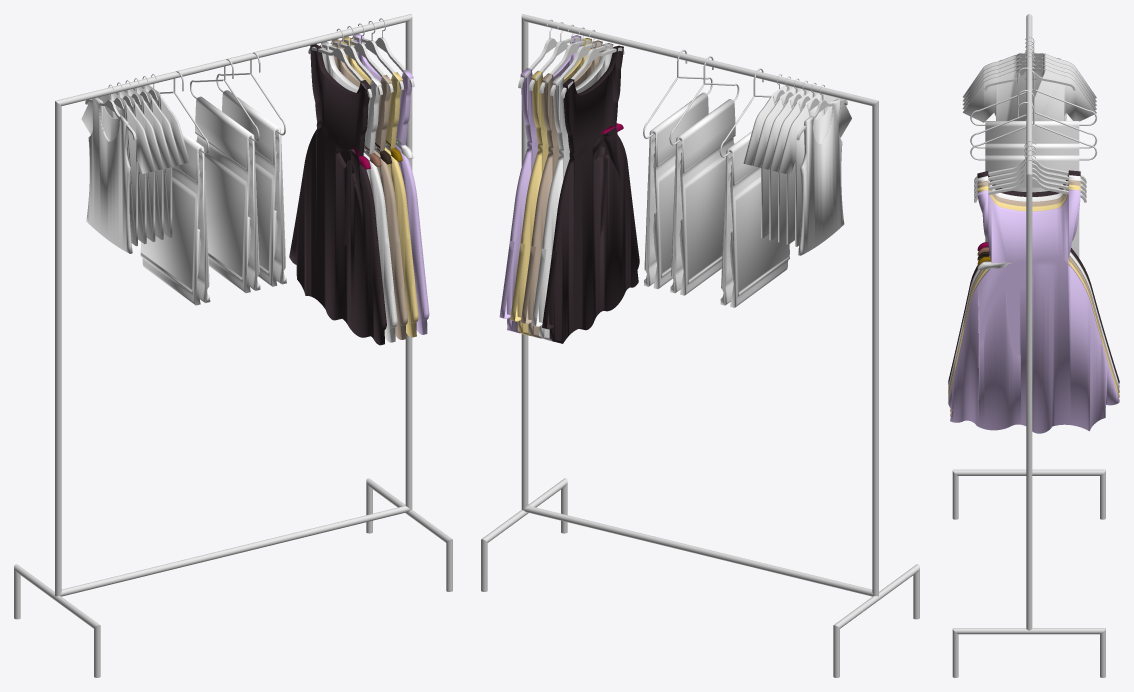
File: clothersrack1.fbx
3 renders of one model, left to right at view 1: azimuth 30°, elevation 25°; view 2: azimuth 150°, elevation 25°; view 3: azimuth 270°, elevation 25°, orthographic. The views are drawn at different scales.
Visible parts, largest first — view 1: Group_002, Component#4_001, Group_027, Group_031, Group_058, Group_029, Group_004, Group_006, Group_010, Group_008, Group_053, Group_038 (+5 smaller); view 2: Group_002, Component#4_001, Group_027, Group_031, Group_058, Group_029, Group_004, Group_006, Group_010, Group_008, Group_053, Component#5_001 (+5 smaller); view 3: Group_010, Group_048, Component#4_001, Group_031, Group_029, Component#5_002, Component#5_001, Group_008, Group_006, Group_027, Group_004, Group_002 (+13 smaller).
Boxes of the visible parts, bbox=[...] form: Group_002: bbox=[289, 44, 386, 345]; Component#4_001: bbox=[55, 14, 412, 596]; Group_027: bbox=[195, 96, 260, 293]; Group_031: bbox=[140, 131, 210, 305]; Group_058: bbox=[86, 97, 132, 253]; Group_029: bbox=[222, 90, 286, 286]; Group_004: bbox=[321, 41, 397, 342]; Group_006: bbox=[331, 39, 407, 339]; Group_010: bbox=[352, 34, 429, 334]; Group_008: bbox=[342, 36, 418, 337]; Group_053: bbox=[81, 93, 155, 246]; Group_038: bbox=[124, 89, 172, 241]; Group_002: bbox=[542, 45, 639, 343]; Component#4_001: bbox=[521, 14, 878, 596]; Group_027: bbox=[670, 99, 735, 295]; Group_031: bbox=[720, 131, 789, 307]; Group_058: bbox=[798, 99, 844, 255]; Group_029: bbox=[644, 92, 708, 288]; Group_004: bbox=[531, 43, 613, 341]; Group_006: bbox=[521, 40, 602, 338]; Group_010: bbox=[499, 35, 581, 333]; Group_008: bbox=[510, 38, 591, 335]; Group_053: bbox=[777, 93, 851, 246]; Component#5_001: bbox=[833, 564, 919, 677]; Group_010: bbox=[948, 189, 1119, 433]; Group_048: bbox=[962, 68, 1096, 122]; Component#4_001: bbox=[1026, 14, 1032, 630]; Group_031: bbox=[985, 121, 1079, 143]; Group_029: bbox=[985, 155, 1079, 257]; Component#5_002: bbox=[952, 628, 1105, 677]; Component#5_001: bbox=[952, 469, 1105, 519]; Group_008: bbox=[948, 184, 1119, 416]; Group_006: bbox=[948, 180, 1119, 411]; Group_027: bbox=[985, 143, 1079, 155]; Group_004: bbox=[948, 175, 1119, 389]; Group_002: bbox=[948, 170, 1119, 384].
Bounding box in the file's own units: 1215 × 1780 × 547.
